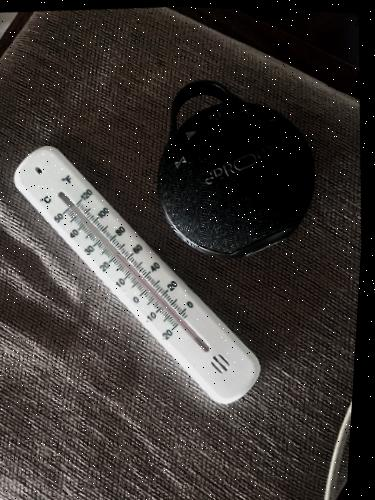thermo: (7, 141, 262, 405)
